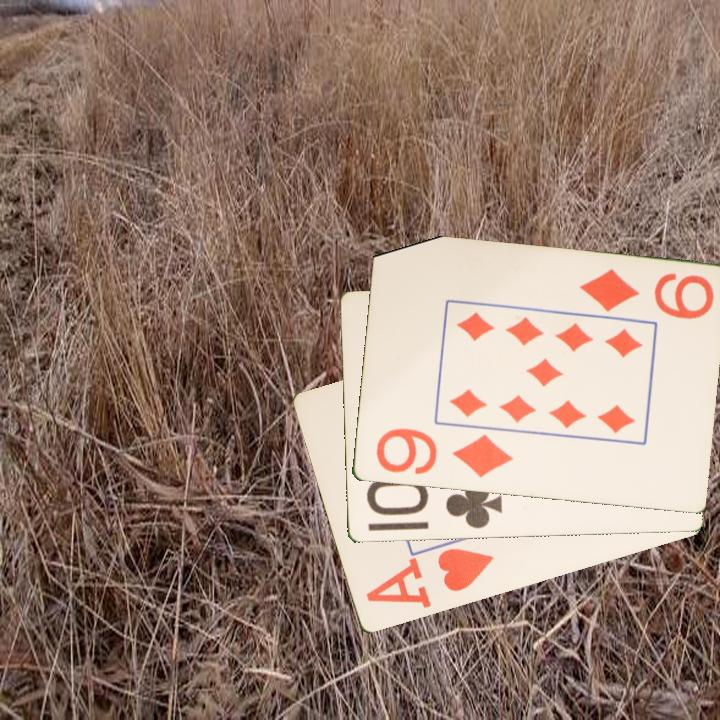10c: (363, 477, 504, 532)
9d: (371, 424, 516, 481), (575, 265, 717, 323)
Ah: (362, 545, 497, 612)
